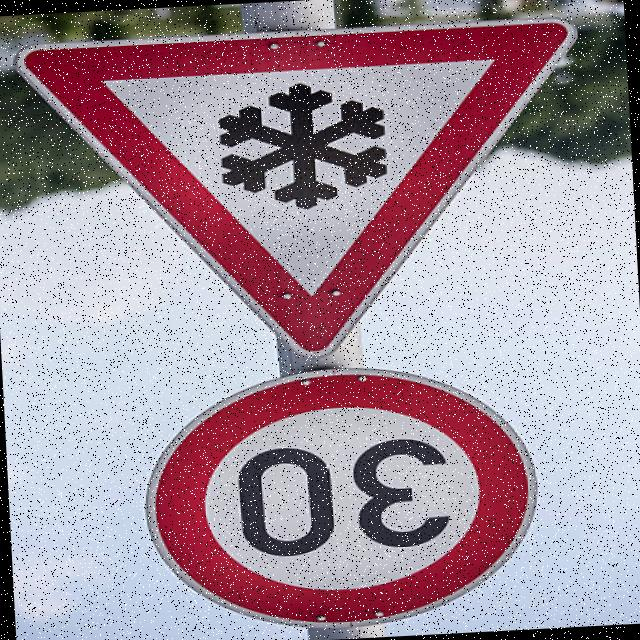snow_warning: (10, 0, 603, 385)
